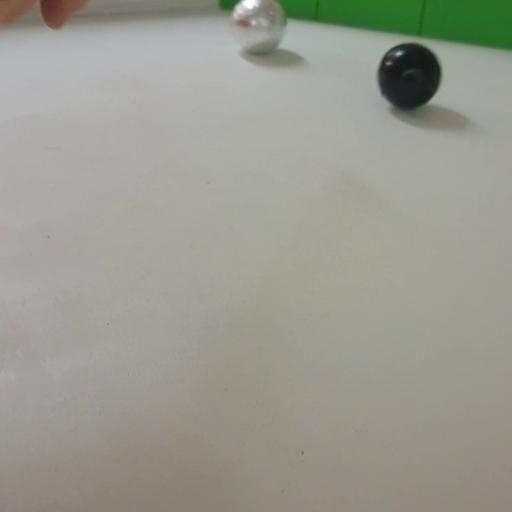alive: (231, 0, 286, 54)
dead: (377, 43, 441, 109)
